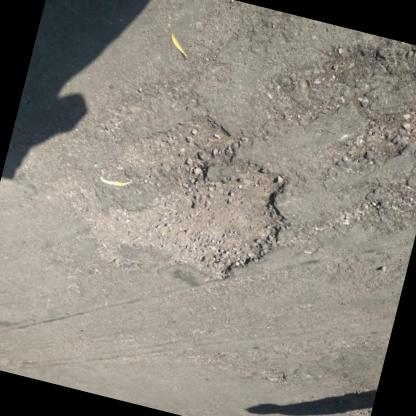pothole: (62, 89, 310, 304)
